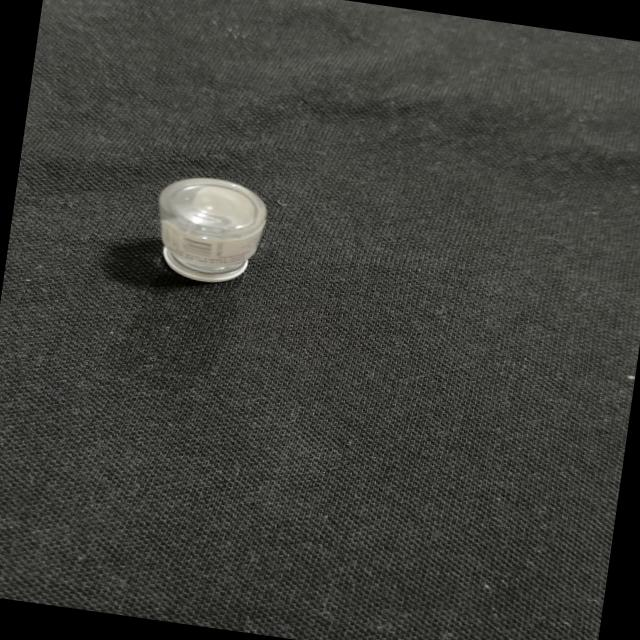fentanl_citrat: (149, 172, 268, 286)
